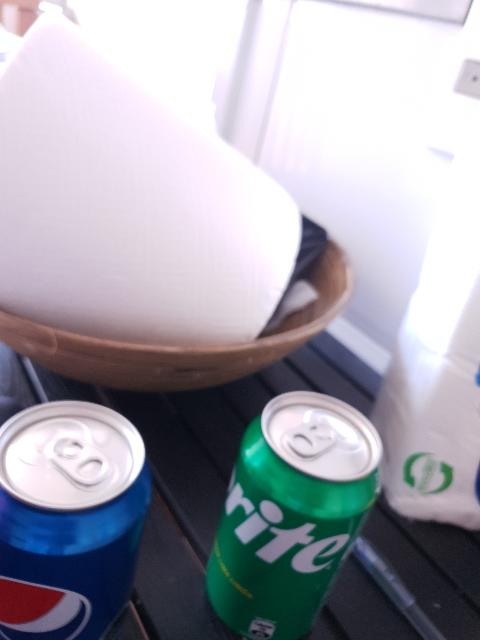pepsi: (0, 398, 152, 640)
sprite: (207, 391, 387, 637)
